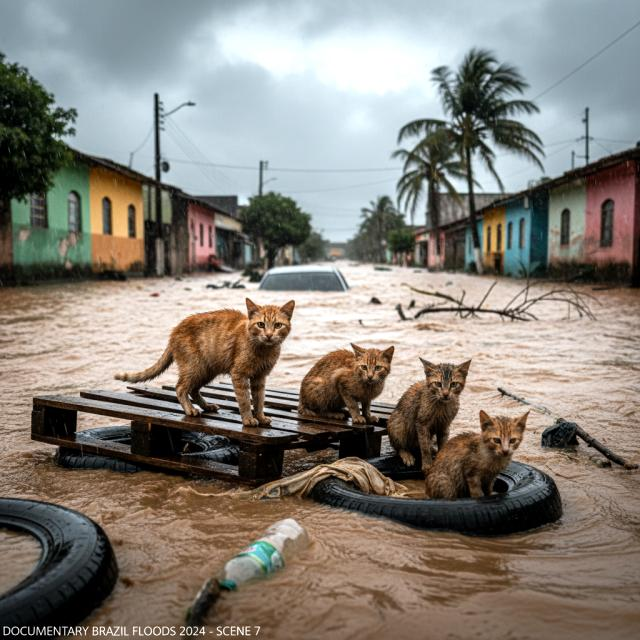cat: (110, 296, 298, 433), (391, 346, 472, 476), (426, 402, 531, 499), (299, 336, 400, 426)
